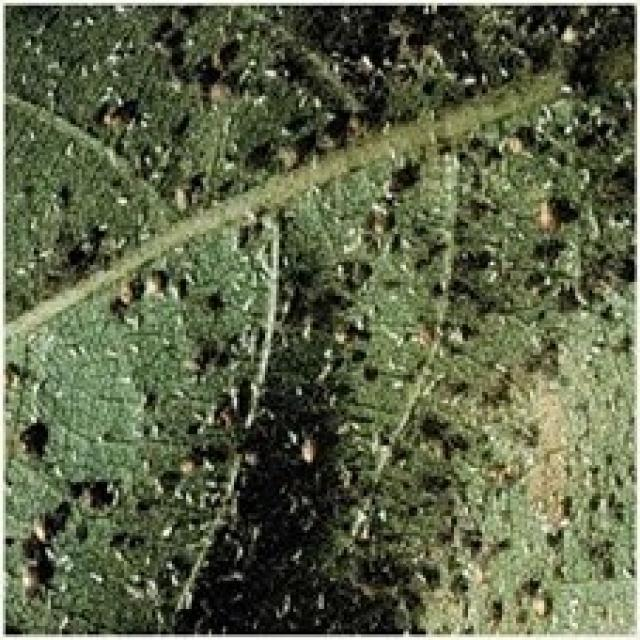Spider_Mites: (26, 16, 615, 622)
